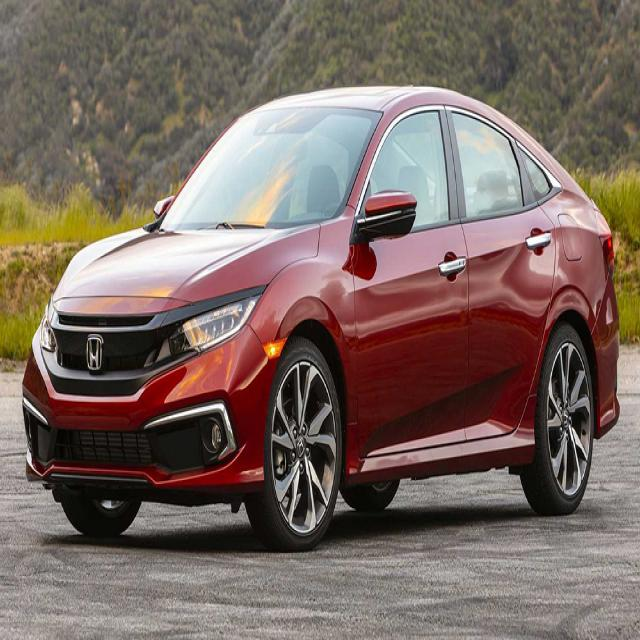car: (21, 53, 623, 571)
